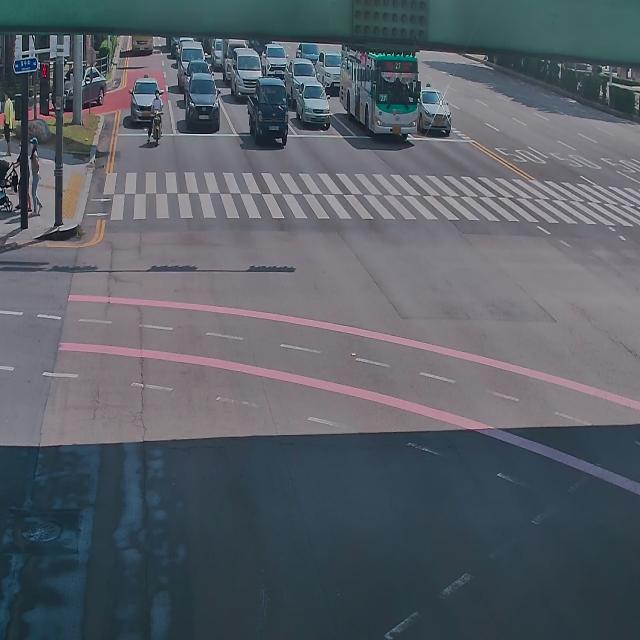Bus: (342, 38, 419, 144), (128, 22, 158, 60)
Car: (246, 76, 288, 146), (50, 66, 107, 111), (184, 71, 221, 132), (416, 88, 452, 136), (128, 75, 164, 123), (284, 58, 317, 110), (296, 80, 330, 130), (227, 44, 260, 94), (315, 50, 342, 94), (261, 42, 288, 79), (178, 42, 206, 74), (296, 42, 320, 71)
Motorcycle: (147, 89, 163, 144)
Truck: (221, 32, 237, 75)
